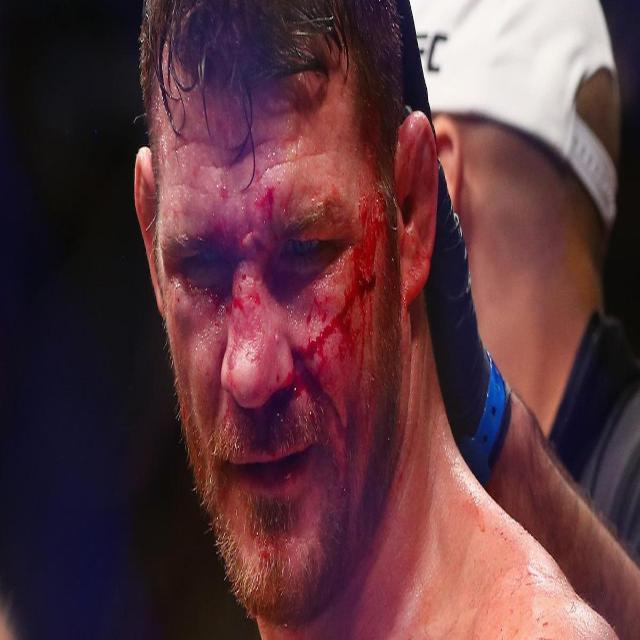flood: (158, 171, 409, 437)
